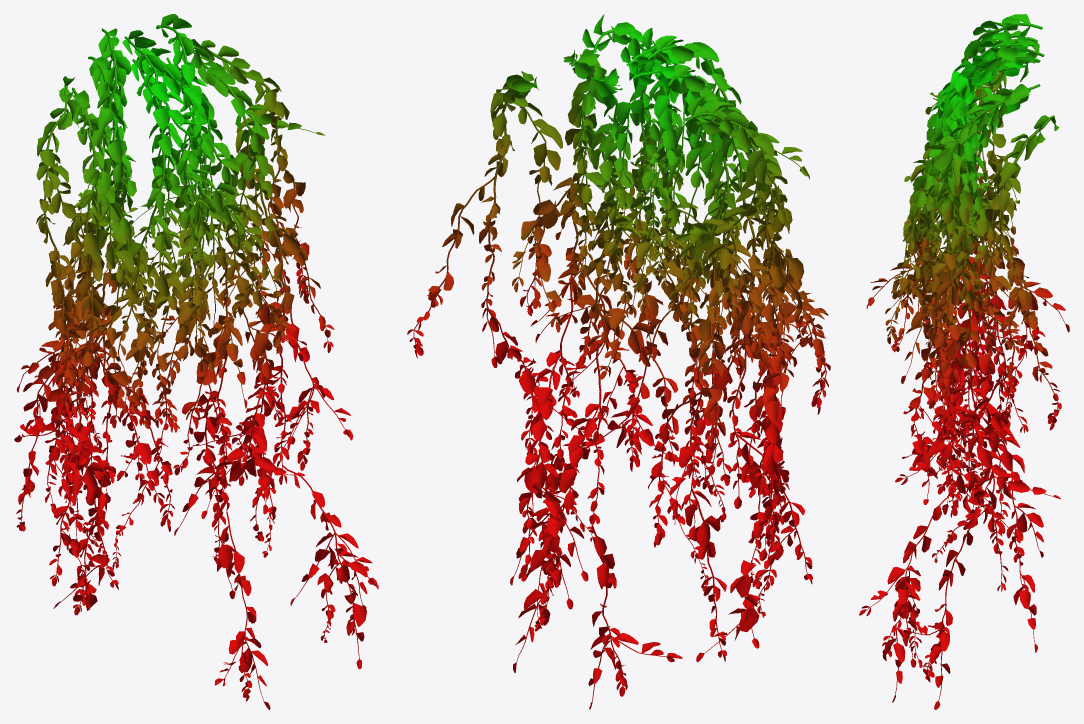
Rendered from Var2_LOD1.fbx.
3 views of the same model, side by side, from view 1: azimuth 30°, elevation 25°; view 2: azimuth 150°, elevation 25°; view 3: azimuth 270°, elevation 25° (orthographic). The views are drawn at different scales.
Visible parts, largest first — view 1: _7h4v_Var2_LOD1; view 2: _7h4v_Var2_LOD1; view 3: _7h4v_Var2_LOD1.
Boxes of the visible parts, box(x1,y1,x2,y2) form: _7h4v_Var2_LOD1: box(14, 14, 378, 709); _7h4v_Var2_LOD1: box(407, 14, 830, 709); _7h4v_Var2_LOD1: box(859, 14, 1069, 709).
Size of the model in its own units: 118 by 238 by 70.95.
